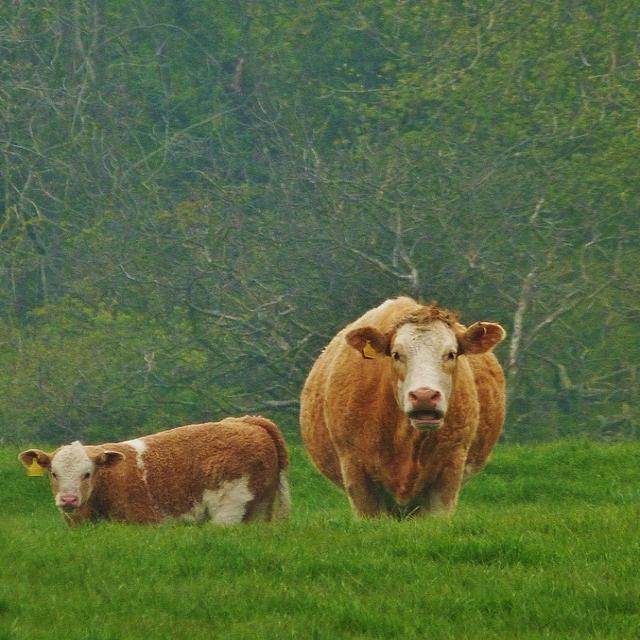cow: (298, 294, 505, 518), (16, 412, 290, 527)
